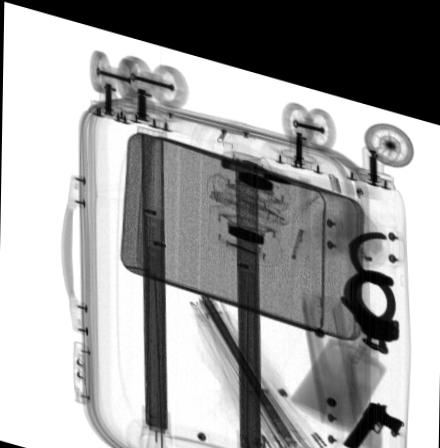Bullet: (219, 147, 293, 169)
Gun: (340, 381, 403, 431)
HandCuffs: (337, 210, 398, 336)
